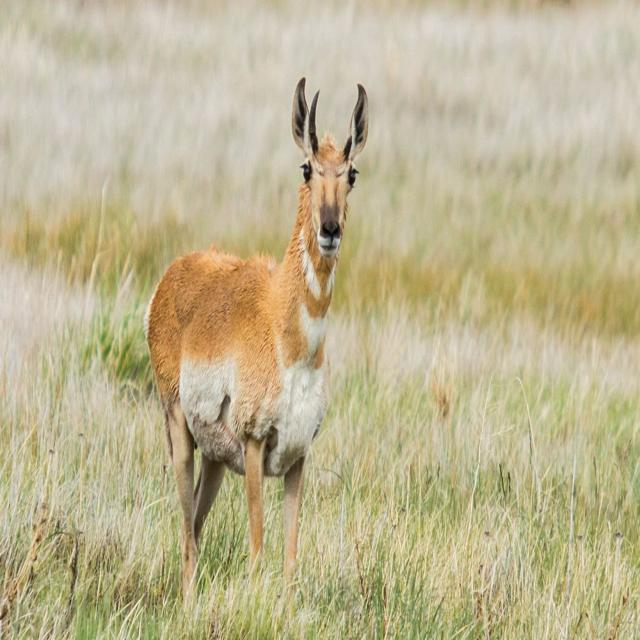Antelope: (143, 73, 375, 594)
